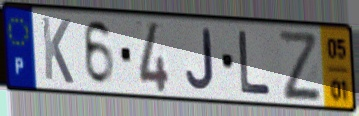4: (137, 19, 172, 95)
6: (81, 18, 117, 88)
J: (184, 27, 217, 93)
K: (39, 14, 76, 87)
L: (235, 28, 273, 97)
Z: (276, 28, 324, 103)
